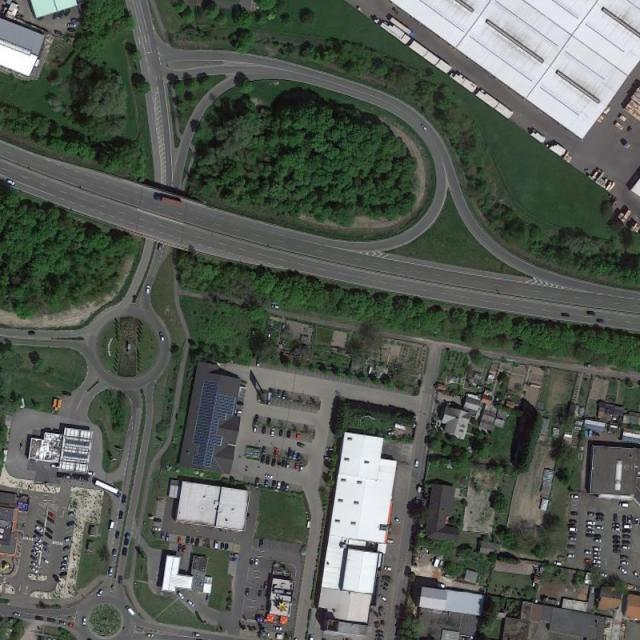vehicle: (388, 16, 416, 38), (94, 479, 123, 499), (154, 196, 182, 207), (126, 605, 137, 617), (619, 566, 628, 575), (35, 525, 44, 534), (62, 8, 71, 17), (177, 591, 186, 600), (378, 594, 388, 602), (186, 600, 196, 608), (158, 332, 165, 343), (46, 526, 54, 535), (41, 557, 50, 565), (42, 541, 51, 549), (45, 532, 54, 540), (31, 550, 40, 558), (30, 554, 39, 562), (31, 560, 39, 569), (30, 566, 39, 574), (271, 458, 278, 468), (296, 442, 306, 449), (35, 520, 45, 527), (108, 522, 115, 532), (6, 179, 16, 186), (595, 512, 606, 518), (619, 502, 630, 508), (108, 567, 114, 578), (67, 22, 78, 28), (394, 517, 402, 525), (42, 546, 50, 554), (34, 530, 42, 538), (34, 535, 42, 543), (34, 546, 42, 554), (96, 590, 104, 598), (46, 517, 55, 524), (47, 512, 56, 519), (68, 511, 77, 518), (58, 10, 65, 19), (421, 123, 428, 132), (586, 310, 596, 316), (254, 480, 260, 490), (292, 450, 298, 460), (282, 391, 288, 401), (66, 521, 76, 527), (58, 571, 68, 577), (583, 363, 594, 368), (271, 304, 280, 310), (569, 532, 578, 538), (599, 572, 608, 578), (376, 634, 385, 640), (236, 400, 245, 406), (64, 536, 73, 542), (62, 555, 71, 561), (53, 11, 59, 20), (46, 618, 56, 623), (622, 529, 632, 534), (595, 517, 605, 522), (554, 561, 564, 566), (561, 313, 571, 318), (596, 319, 606, 324), (376, 630, 386, 635), (118, 575, 123, 585), (86, 471, 96, 476), (50, 464, 60, 469), (194, 538, 199, 548), (259, 539, 264, 549), (192, 633, 202, 638), (59, 620, 67, 626), (264, 480, 270, 488), (34, 542, 42, 548), (153, 526, 161, 532), (34, 616, 43, 621), (624, 525, 633, 530), (622, 534, 631, 539), (586, 525, 595, 530), (622, 540, 631, 545), (622, 545, 631, 550), (613, 539, 622, 544), (587, 521, 596, 526), (621, 561, 630, 566), (567, 545, 576, 550), (593, 560, 602, 565), (274, 449, 279, 458), (261, 455, 266, 464), (326, 447, 335, 452), (285, 483, 290, 492), (384, 566, 393, 571), (253, 425, 258, 434), (270, 428, 275, 437), (60, 561, 69, 566), (115, 531, 120, 540), (118, 510, 123, 519), (190, 537, 195, 546), (122, 495, 127, 504), (13, 613, 21, 618), (613, 549, 621, 554), (613, 544, 621, 549), (587, 512, 595, 517), (634, 571, 639, 579), (570, 511, 578, 516), (570, 495, 580, 499), (570, 537, 578, 542), (594, 538, 602, 543), (262, 446, 266, 456), (277, 482, 282, 490), (281, 482, 286, 490), (267, 418, 272, 426), (286, 430, 291, 438), (415, 498, 420, 506), (415, 460, 420, 468), (122, 548, 127, 556), (67, 28, 77, 32), (28, 331, 36, 336), (126, 533, 131, 541), (214, 540, 218, 550), (186, 535, 190, 545), (154, 518, 162, 523), (254, 558, 259, 566), (274, 626, 282, 631), (628, 515, 632, 524), (586, 530, 595, 534), (570, 528, 579, 532), (593, 564, 602, 568), (257, 358, 261, 367), (278, 460, 282, 469), (286, 461, 290, 470), (300, 463, 304, 472), (273, 480, 277, 489), (60, 566, 69, 570), (113, 549, 117, 558), (146, 285, 150, 294), (63, 392, 72, 396), (206, 539, 210, 548), (166, 533, 170, 542), (162, 531, 166, 540), (294, 463, 299, 470), (63, 547, 70, 552), (125, 539, 130, 546), (635, 518, 639, 526), (623, 515, 627, 523), (621, 556, 629, 560), (612, 527, 620, 531), (612, 523, 620, 527), (597, 526, 605, 530), (586, 534, 594, 538), (568, 524, 576, 528), (567, 554, 575, 558), (594, 556, 602, 560), (594, 547, 602, 551), (594, 534, 602, 538), (266, 457, 270, 465), (297, 432, 301, 440), (282, 460, 286, 468), (278, 390, 282, 398), (279, 430, 283, 438), (234, 410, 242, 414), (262, 426, 266, 434), (158, 243, 162, 251), (182, 545, 186, 553), (221, 542, 225, 550), (178, 544, 182, 552), (178, 536, 182, 544), (231, 553, 239, 557), (230, 558, 238, 562), (246, 588, 250, 596), (264, 582, 268, 590), (146, 634, 154, 638), (614, 535, 621, 539), (585, 550, 592, 554), (594, 551, 601, 555), (225, 543, 229, 550), (569, 520, 578, 523), (614, 514, 617, 522), (83, 618, 86, 626), (310, 634, 314, 640), (42, 636, 47, 640), (38, 636, 42, 640), (395, 638, 400, 640), (52, 638, 57, 640), (47, 638, 51, 640), (57, 639, 61, 640), (322, 639, 326, 640)
